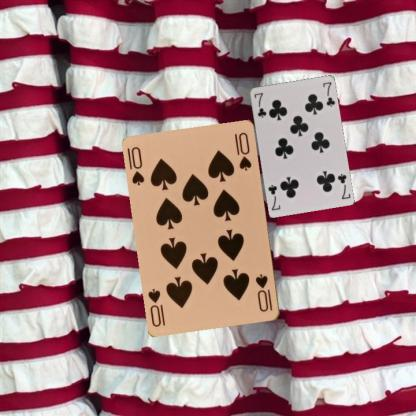10s: (253, 272, 274, 313), (129, 145, 146, 188)
7c: (334, 170, 352, 200), (251, 90, 268, 119)
